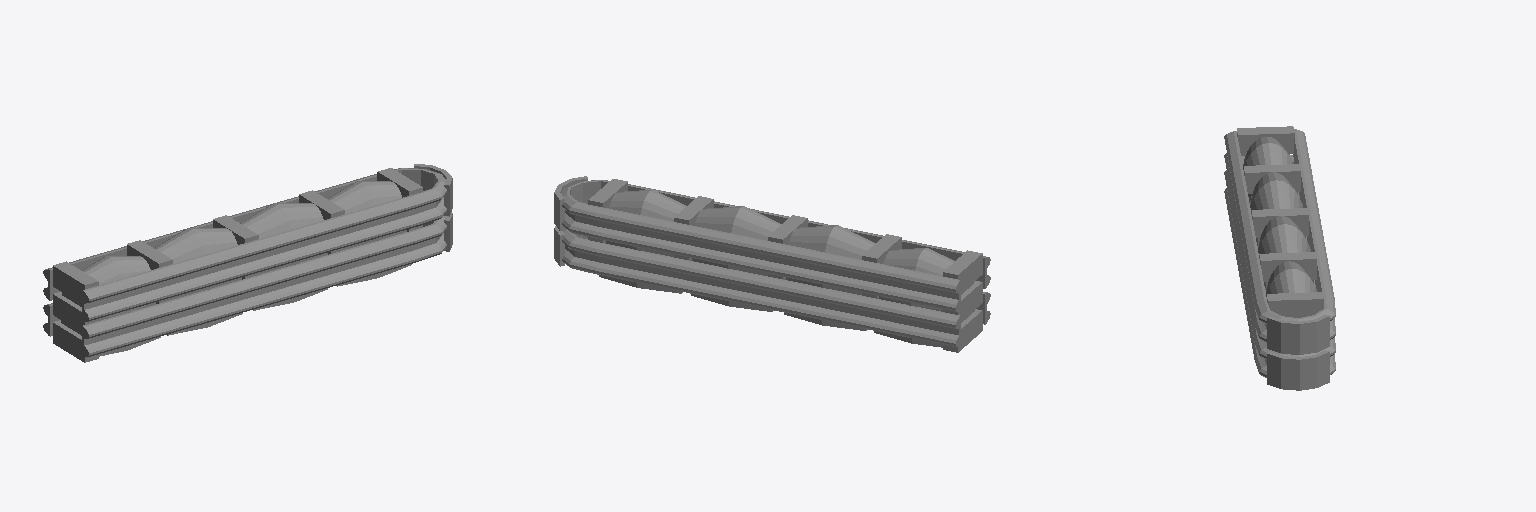
The model's file is Road12_2_7.obj.
The picture shows the model from 3 angles: view 1: azimuth 30°, elevation 25°; view 2: azimuth 150°, elevation 25°; view 3: azimuth 270°, elevation 25°; orthographic projection.
Parts seen in each view (by area): view 1: GSDAtten_Static(Clone); view 2: GSDAtten_Static(Clone); view 3: GSDAtten_Static(Clone).
Part boxes in pixels (bbox=[...]): GSDAtten_Static(Clone): bbox=[43, 164, 452, 362]; GSDAtten_Static(Clone): bbox=[554, 176, 990, 352]; GSDAtten_Static(Clone): bbox=[1224, 126, 1335, 390].
Bounding box in the file's own units: 3.99 × 0.8398 × 0.9597.